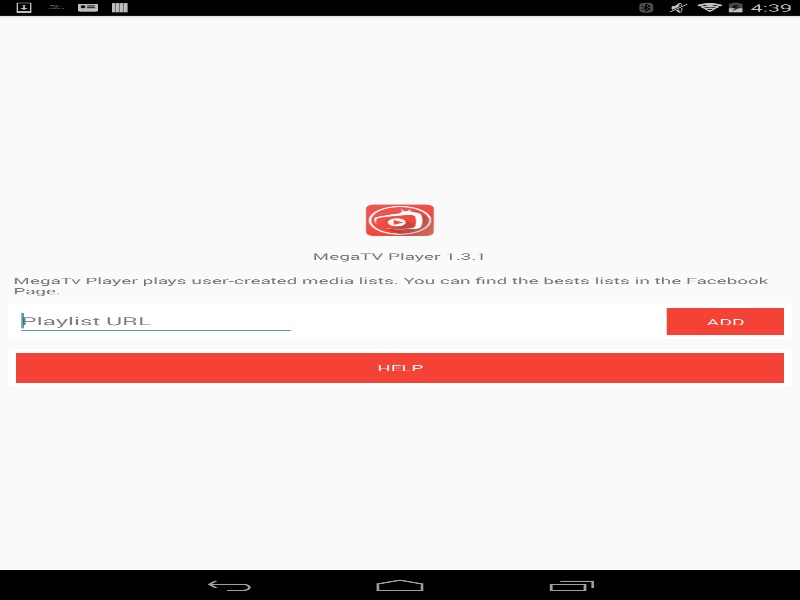Button: (16, 352, 784, 382), (666, 307, 784, 336)
Input: (16, 306, 296, 335)
